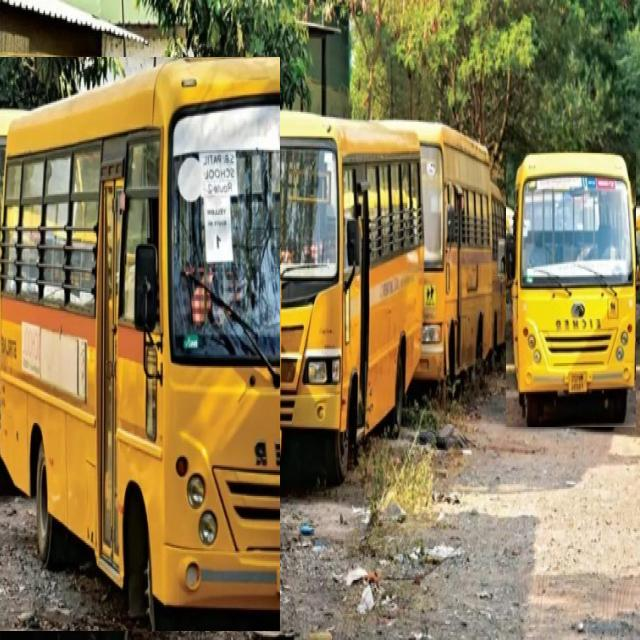bus: (0, 57, 280, 631), (264, 113, 424, 481), (506, 153, 636, 427), (384, 120, 494, 380)
